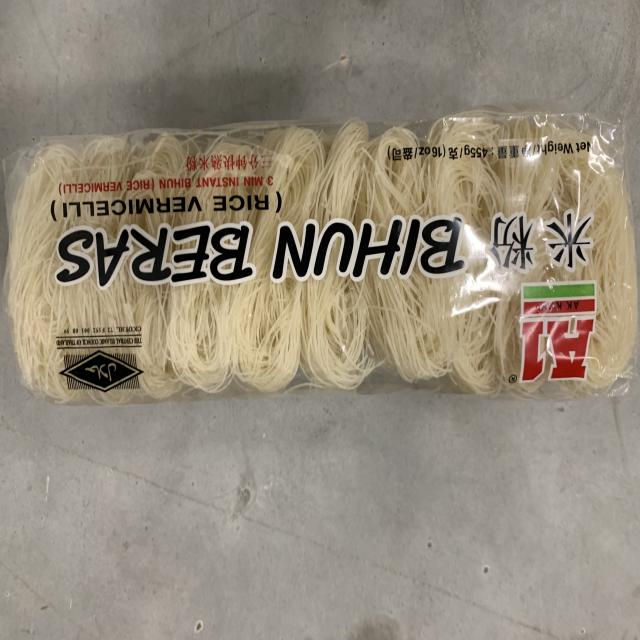object_name: (14, 135, 634, 396)
